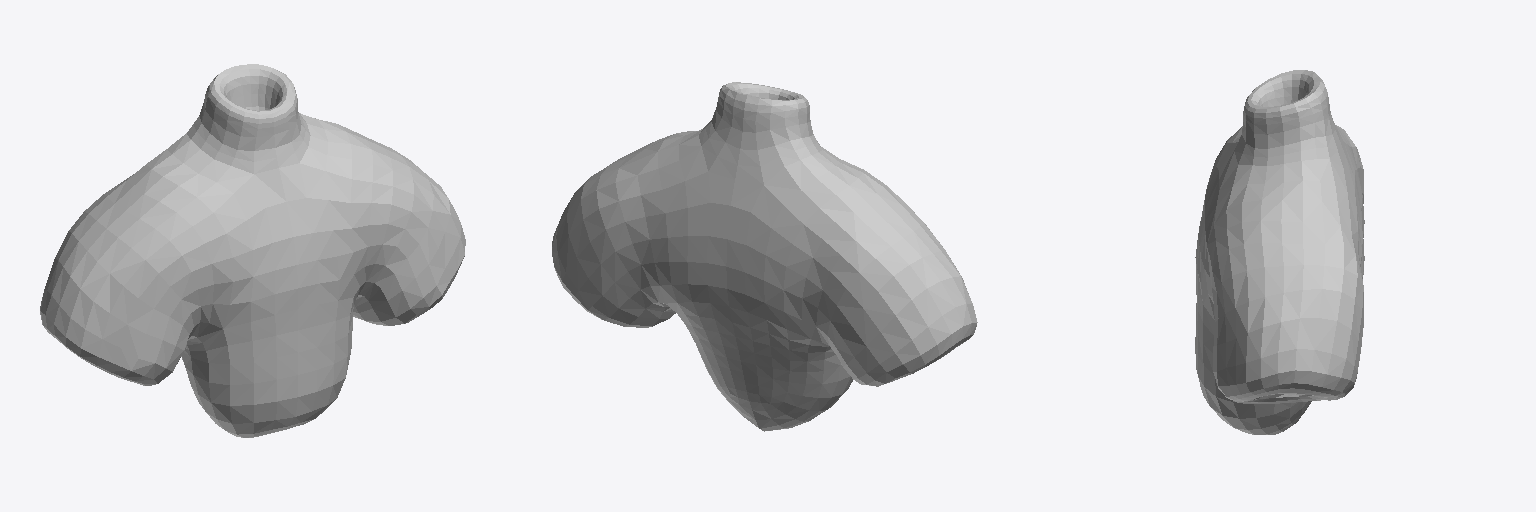
File: shirt_UV.obj
The picture shows the model from 3 angles: view 1: azimuth 30°, elevation 25°; view 2: azimuth 150°, elevation 25°; view 3: azimuth 270°, elevation 25°; orthographic projection.
Visible parts, largest first — view 1: shirt group2; view 2: shirt group2; view 3: shirt group2.
Part boxes in pixels (x1,y1,x2,y2): shirt group2: (40, 64, 465, 437); shirt group2: (552, 82, 977, 431); shirt group2: (1195, 70, 1364, 434).
Bounding box in the file's own units: 33.08 × 27.26 × 11.94.